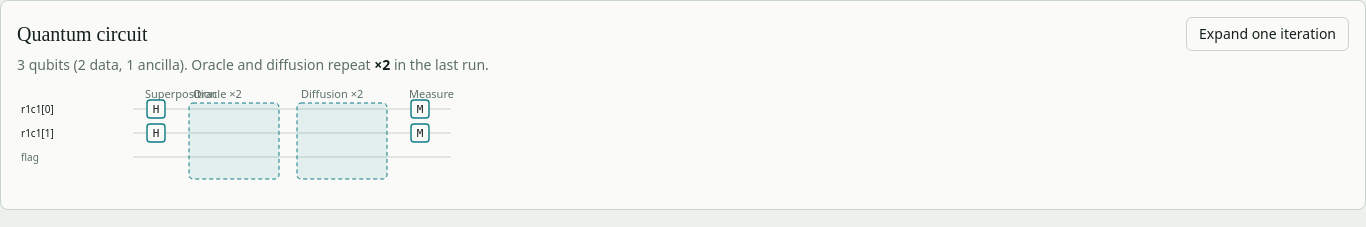
Scenario: trace views › renders the circuit and toggles one expanded iteration
Expected: the picture named "Grover circuit diagram" is shown, left=17, top=87, right=457, bottom=193
Expected: the text "×2" is shown, left=374, top=55, right=390, bottom=74
Click the button "Expand one iteration" at (1268, 34), box left=1186, top=17, right=1349, bottom=51
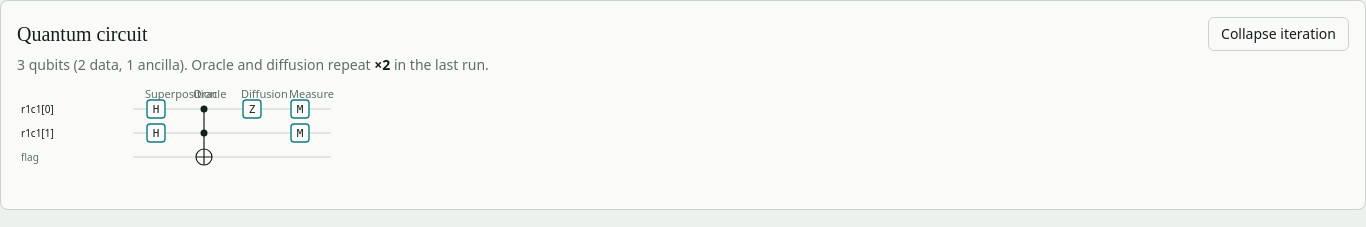
Expected: the button "Collapse iteration" is expanded, left=1208, top=17, right=1349, bottom=51
